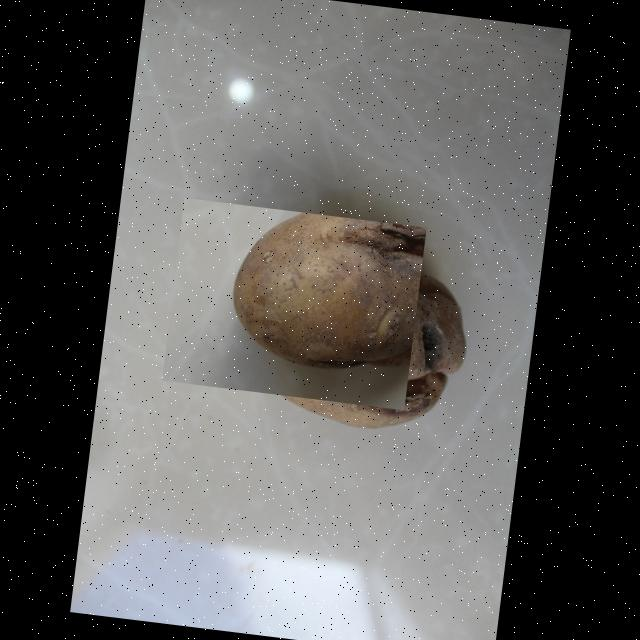Damaged potato: (162, 196, 426, 408)
